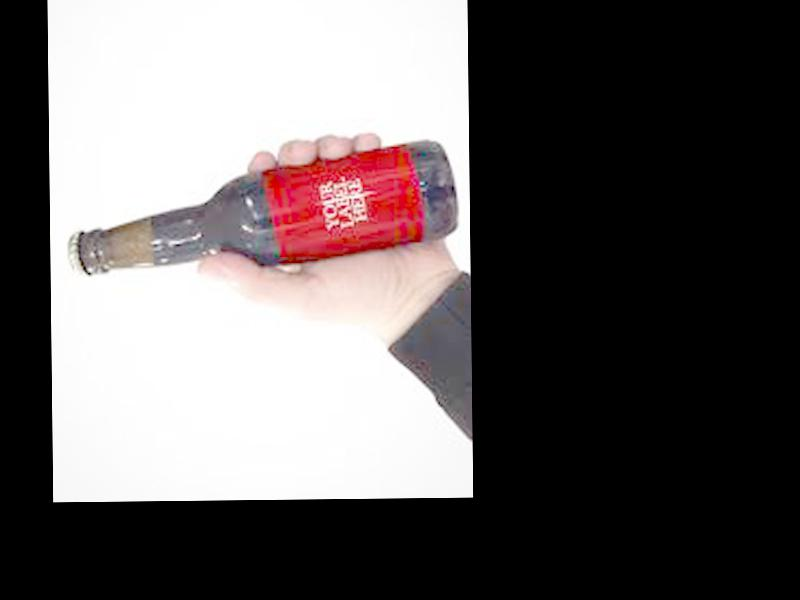Beer: (64, 138, 458, 279)
